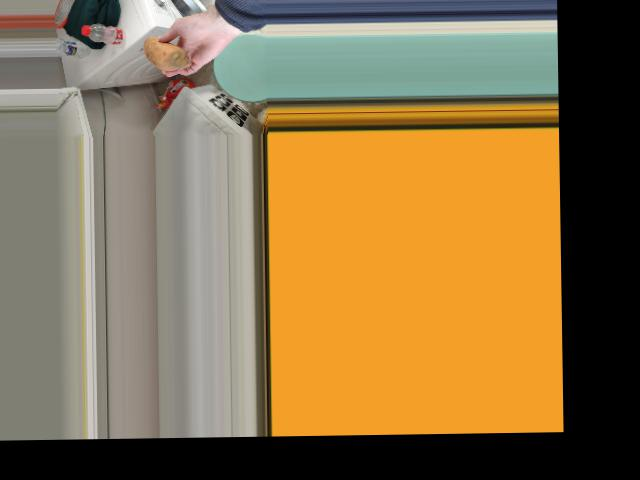sweet_potato: (143, 38, 185, 70)
